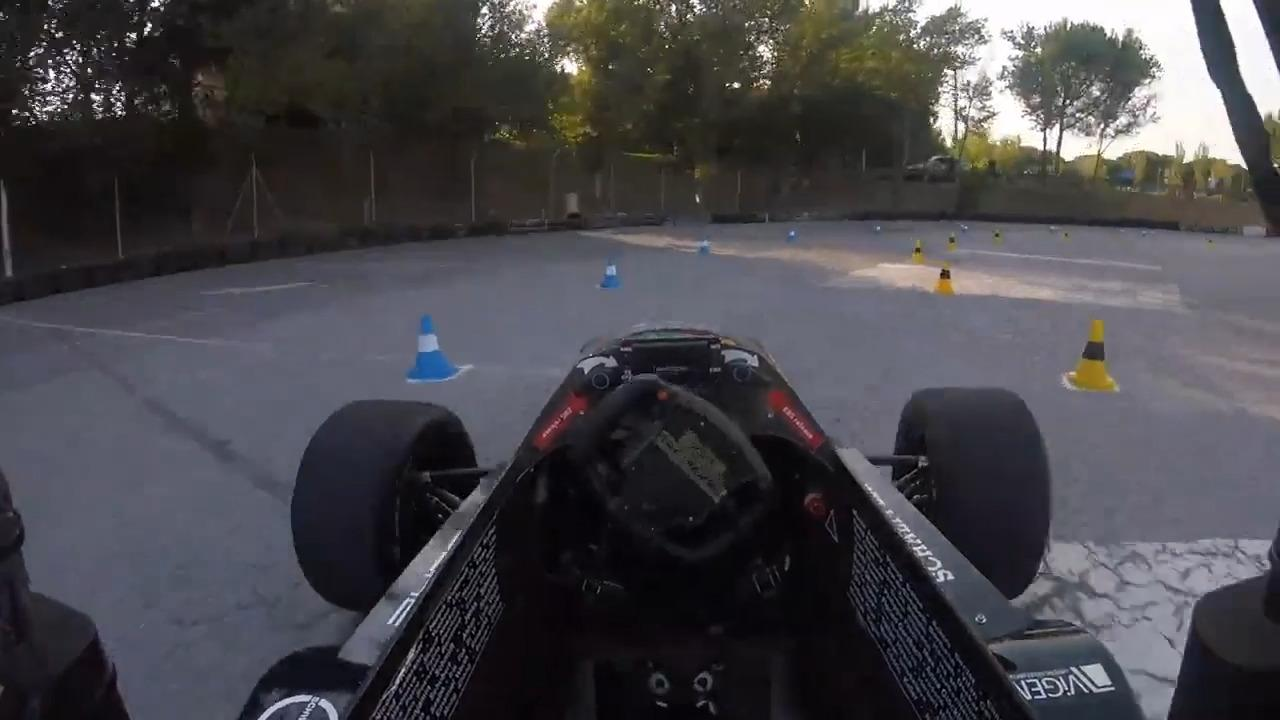blue_cone: (406, 315, 461, 382), (596, 255, 621, 292), (695, 234, 712, 260), (786, 229, 797, 247)
yellow_cone: (1067, 316, 1122, 391), (930, 258, 956, 297), (908, 241, 929, 268), (945, 232, 958, 254), (991, 230, 1002, 246)
